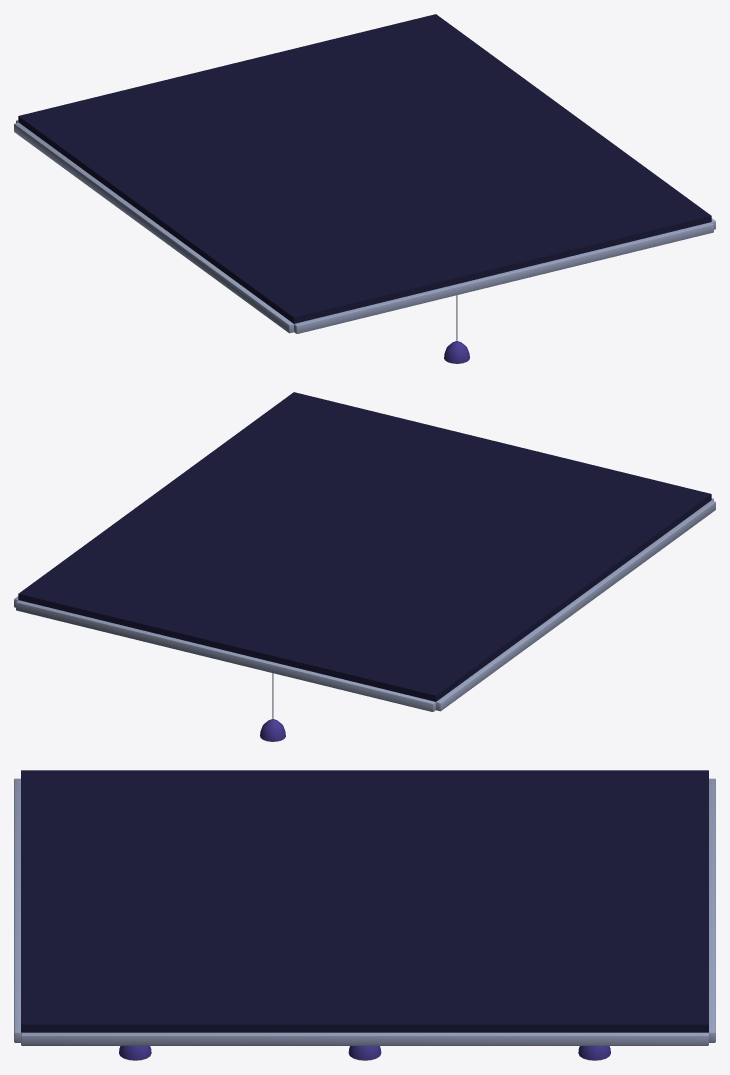
File: CeilingSpace.fbx
3 views of the same model, one above another, from view 1: azimuth 30°, elevation 25°; view 2: azimuth 150°, elevation 25°; view 3: azimuth 270°, elevation 25° (orthographic). The views are drawn at different scales.
Parts seen in each view (by area): view 1: CeilingSpace; view 2: CeilingSpace; view 3: CeilingSpace.
Boxes of the visible parts, x1=… form: CeilingSpace: x1=14, y1=14, x2=715, y2=363; CeilingSpace: x1=14, y1=392, x2=715, y2=741; CeilingSpace: x1=14, y1=770, x2=715, y2=1060.
Bounding box in the file's own units: 7160 × 2020 × 8160.
